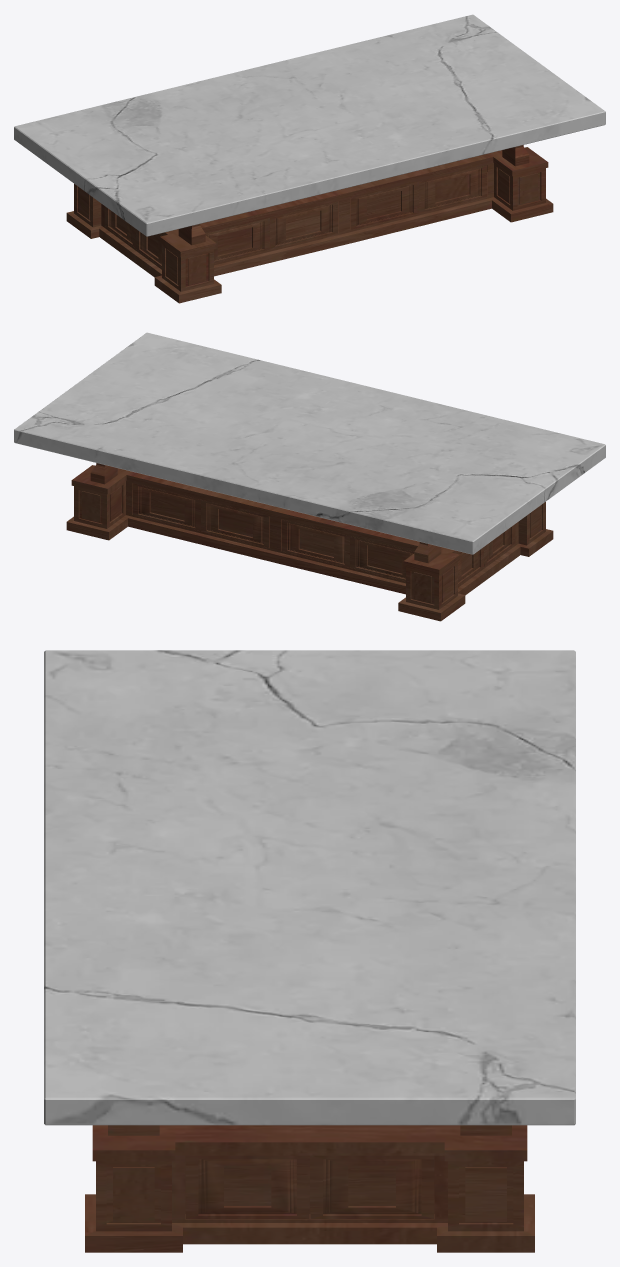
File: table_005.glb
3 views of the same model, one above another, from view 1: azimuth 30°, elevation 25°; view 2: azimuth 150°, elevation 25°; view 3: azimuth 270°, elevation 25° (orthographic). The views are drawn at different scales.
Parts seen in each view (by area): view 1: Table_005; view 2: Table_005; view 3: Table_005.
Boxes of the visible parts, x1,y1,x2,y2 form: Table_005: (14,14,605,303); Table_005: (14,332,605,621); Table_005: (44,650,575,1252).
Bounding box in the file's own units: 2.8 × 0.5686 × 1.4.
1 material, 1 textured.
